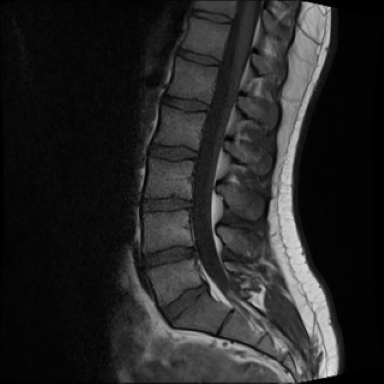Lumbar Disc Bulge (LDB): (156, 276, 210, 331), (135, 240, 201, 274), (133, 194, 198, 215)
Normal IVD: (143, 140, 203, 165), (156, 90, 214, 115), (171, 47, 225, 71), (186, 7, 238, 29)
Spinal Stenosis (SS): (184, 237, 204, 265), (197, 279, 214, 299), (186, 194, 201, 214)
